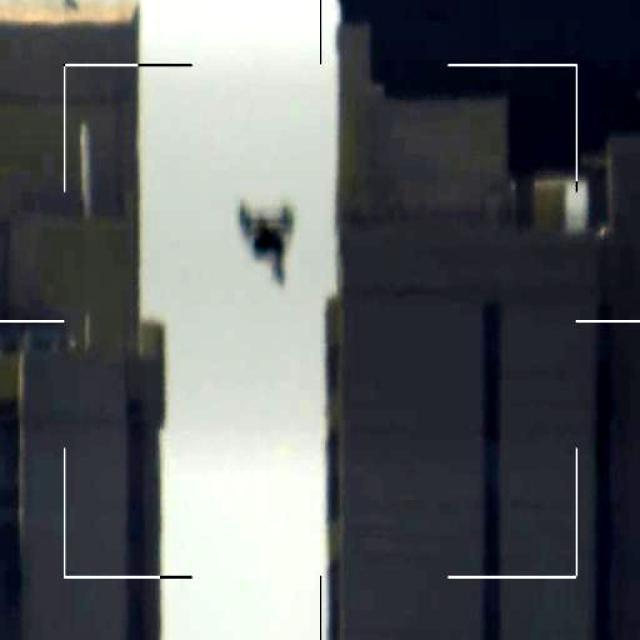bird: (231, 192, 305, 289)
